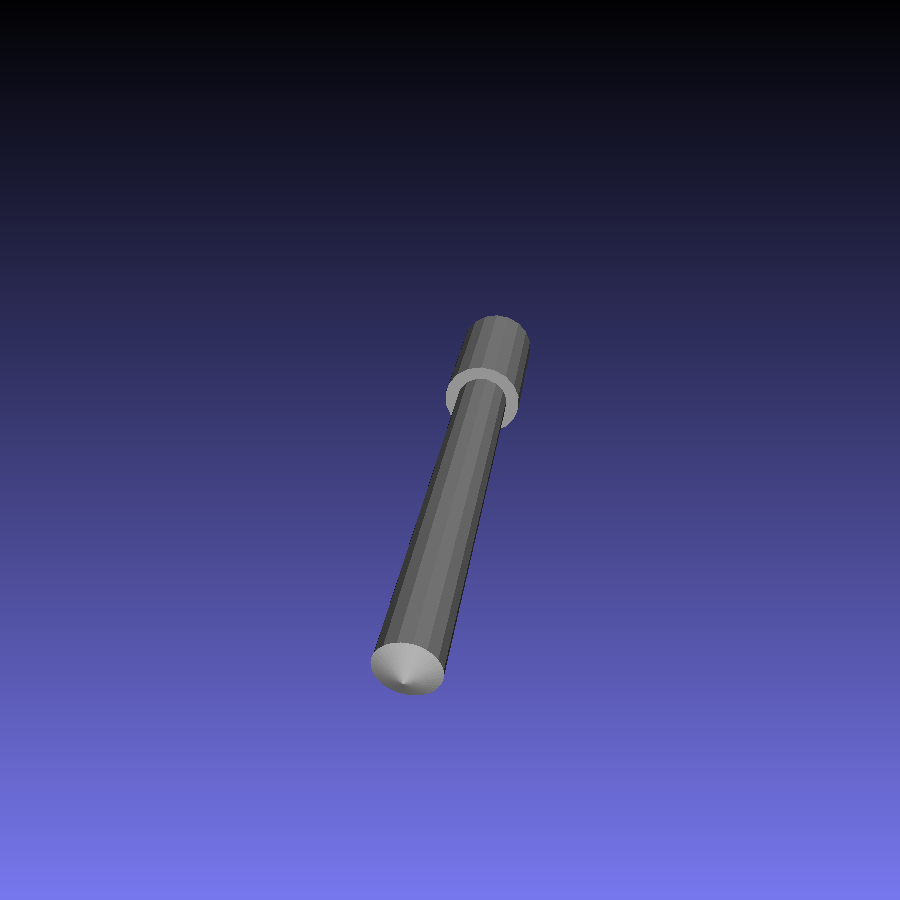cargo_g: (371, 315, 532, 693)
